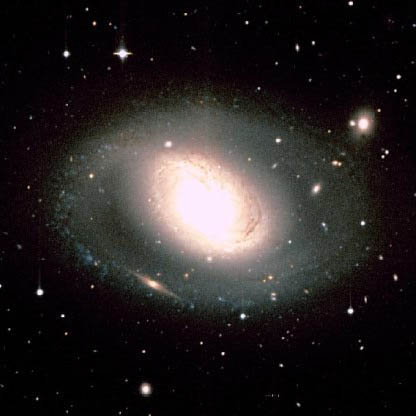Messier 96: (42, 89, 392, 326)
